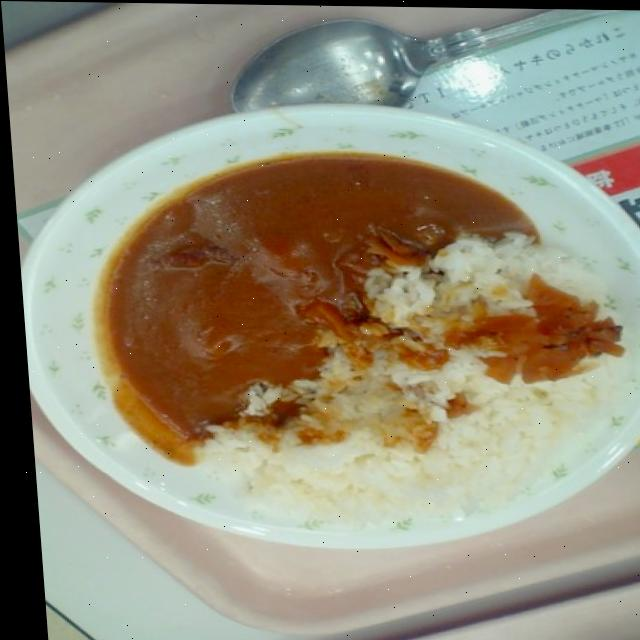牛肉菜式: (83, 145, 617, 526)
